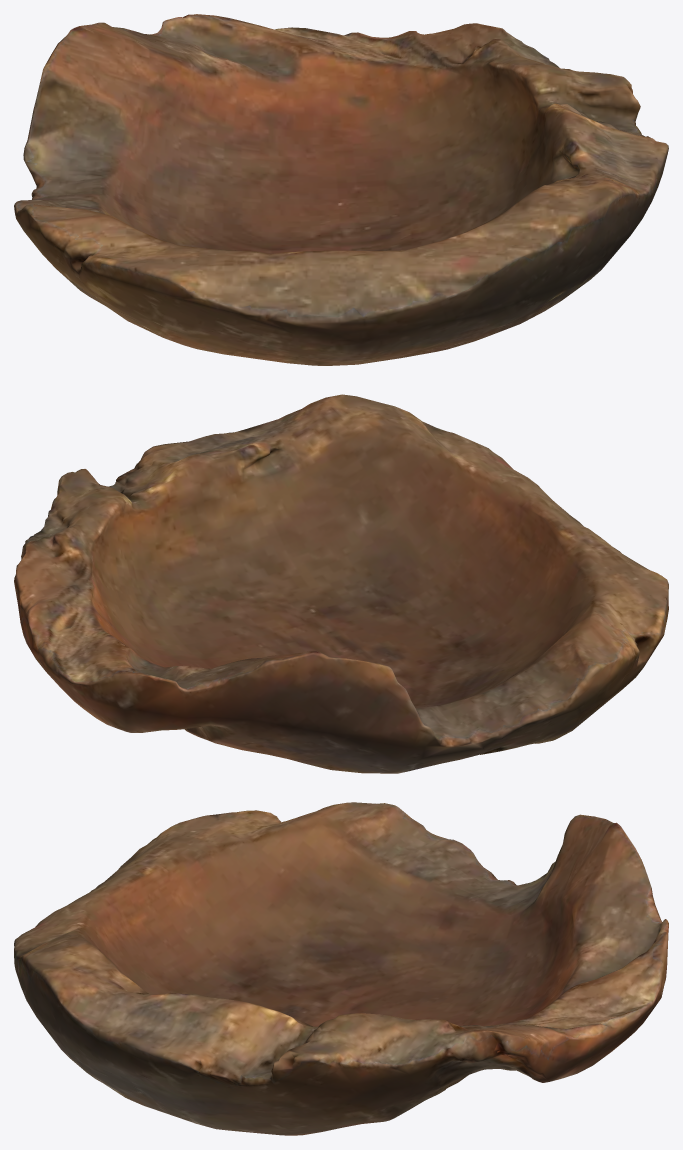
File: wooden_bowl_01.glb
The picture shows the model from 3 angles, top to bottom: view 1: azimuth 30°, elevation 25°; view 2: azimuth 150°, elevation 25°; view 3: azimuth 270°, elevation 25°; orthographic projection. The views are drawn at different scales.
Visible parts, largest first — view 1: wooden_bowl_01; view 2: wooden_bowl_01; view 3: wooden_bowl_01.
Part boxes in pixels (x1,y1,x2,y2): wooden_bowl_01: (14, 14, 668, 365); wooden_bowl_01: (14, 394, 668, 773); wooden_bowl_01: (14, 802, 668, 1135).
Size of the model in its own units: 0.313 by 0.0937 by 0.3091.
1 material, 1 textured.
